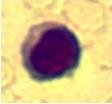lymphocyte: (17, 20, 80, 80)
